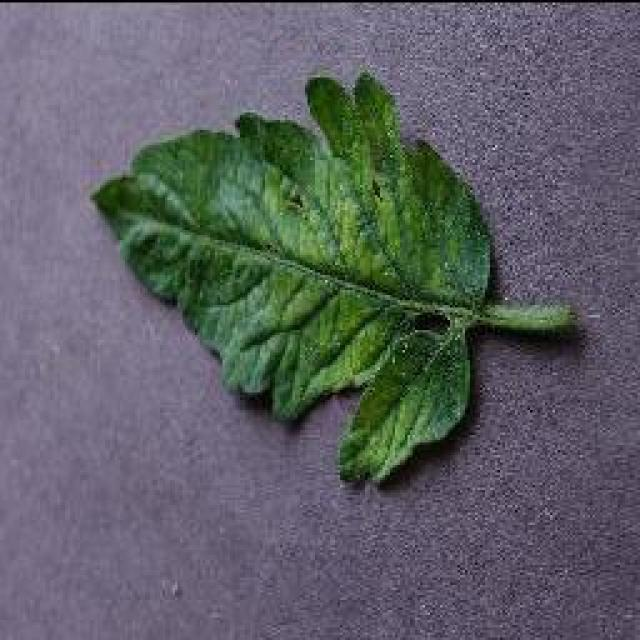Tomato___Tomato_mosaic_virus: (92, 72, 572, 480)
